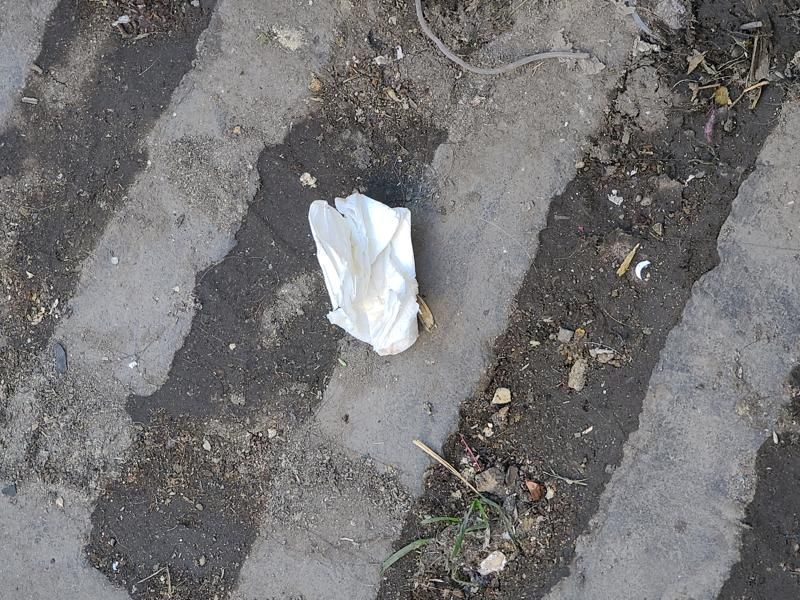papel: (307, 194, 428, 358)
